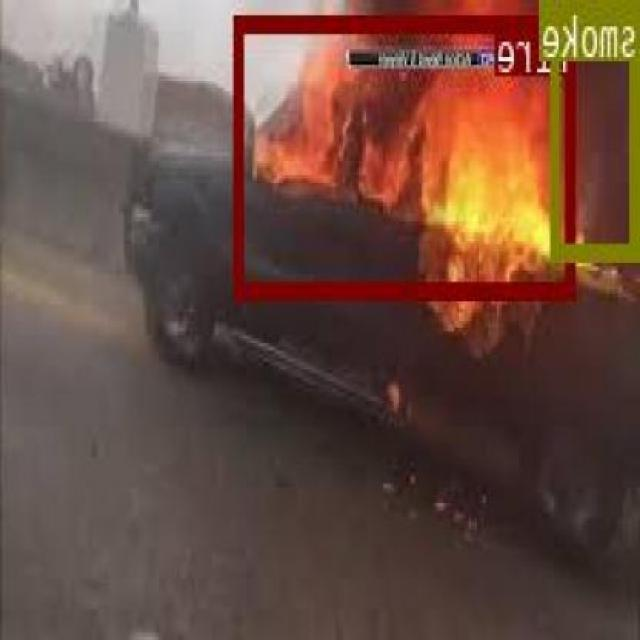Fire: (237, 11, 577, 298)
Smoke: (553, 0, 640, 258)
